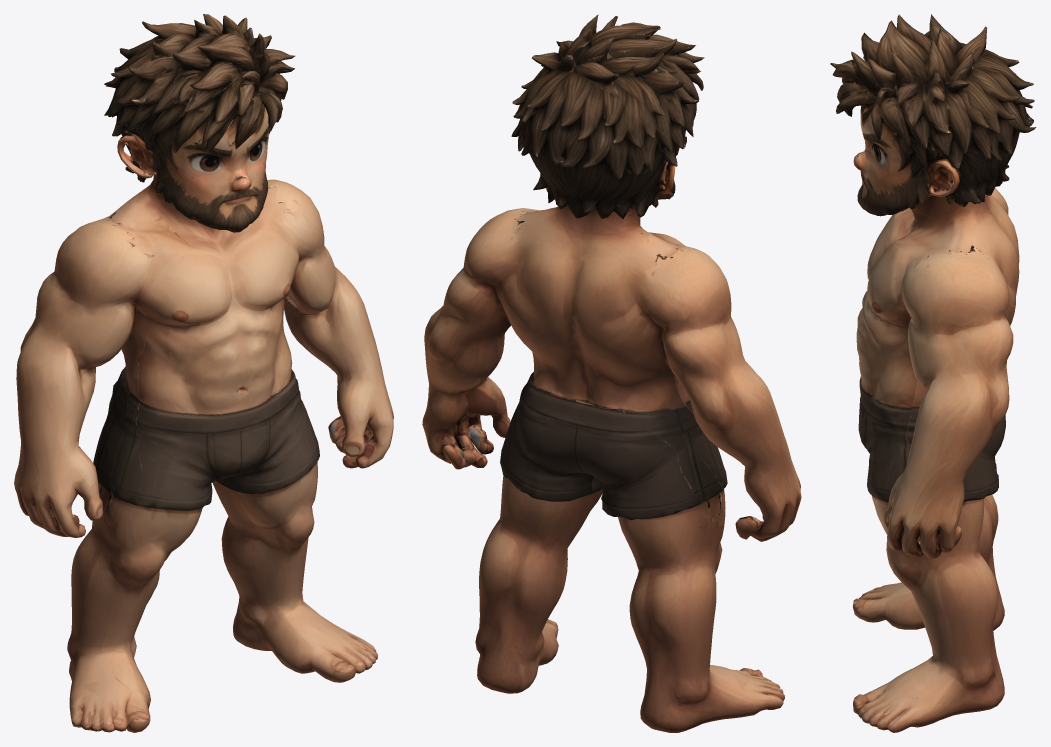
The model's file is body.glb.
3 renders of one model, left to right at view 1: azimuth 30°, elevation 25°; view 2: azimuth 150°, elevation 25°; view 3: azimuth 270°, elevation 25°, orthographic. The views are drawn at different scales.
Visible parts, largest first — view 1: texture_mapping; view 2: texture_mapping; view 3: texture_mapping.
Boxes of the visible parts, x1,y1,x2,y2 form: texture_mapping: [14, 14, 393, 732]; texture_mapping: [422, 14, 801, 732]; texture_mapping: [830, 14, 1036, 732].
Bounding box in the file's own units: 0.5757 × 0.9976 × 0.293.
1 material, 1 textured.
